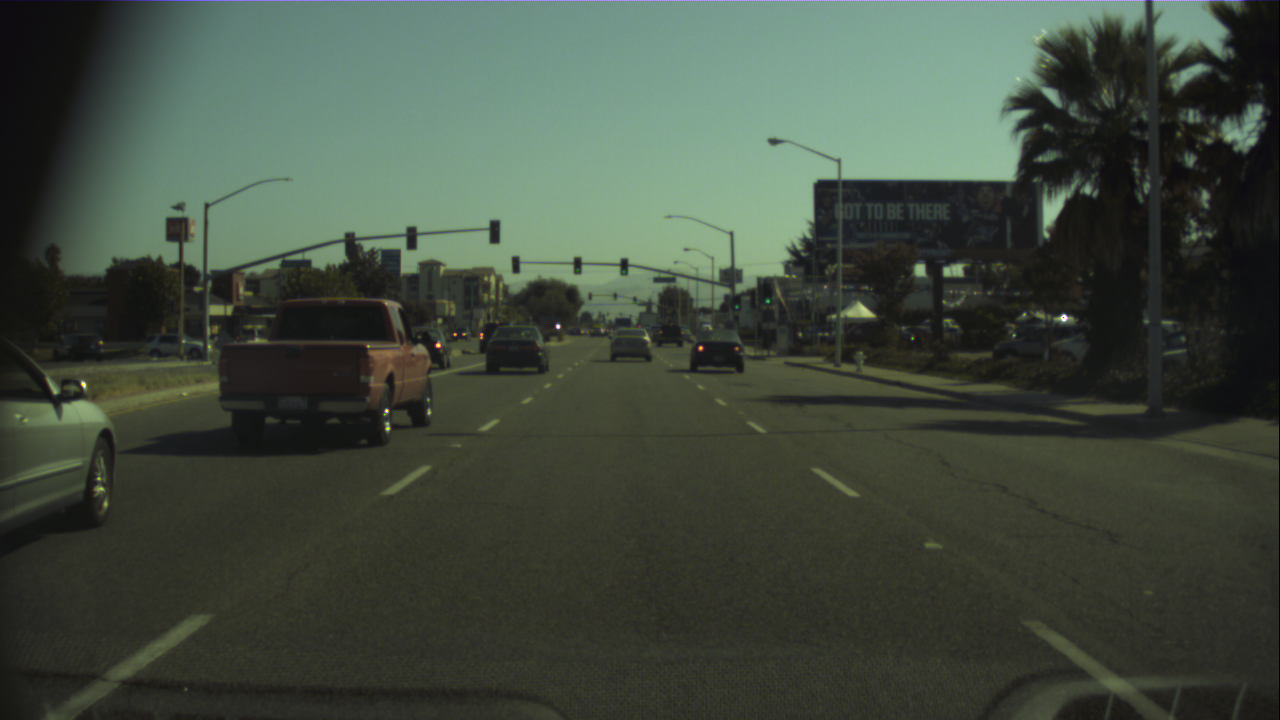Green: (764, 285, 771, 304), (573, 258, 581, 274), (620, 258, 627, 274), (733, 296, 740, 310)
off: (513, 257, 518, 271)
